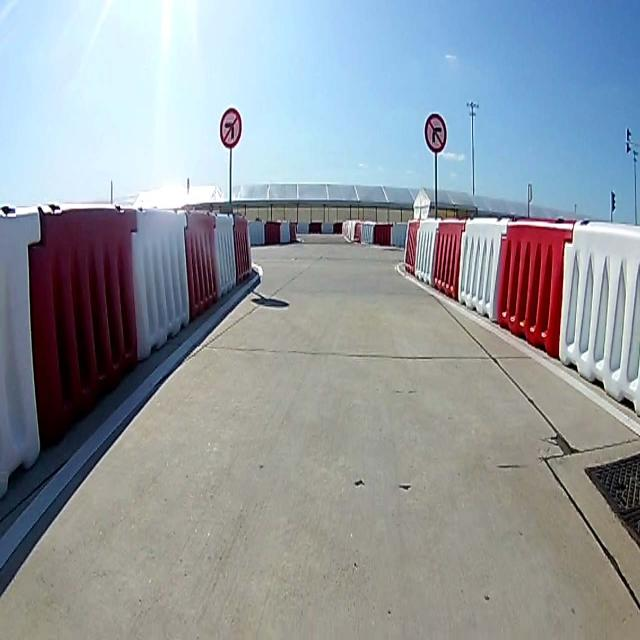sagadonulmez: (424, 111, 449, 157)
soladonulmez: (220, 108, 240, 148)
